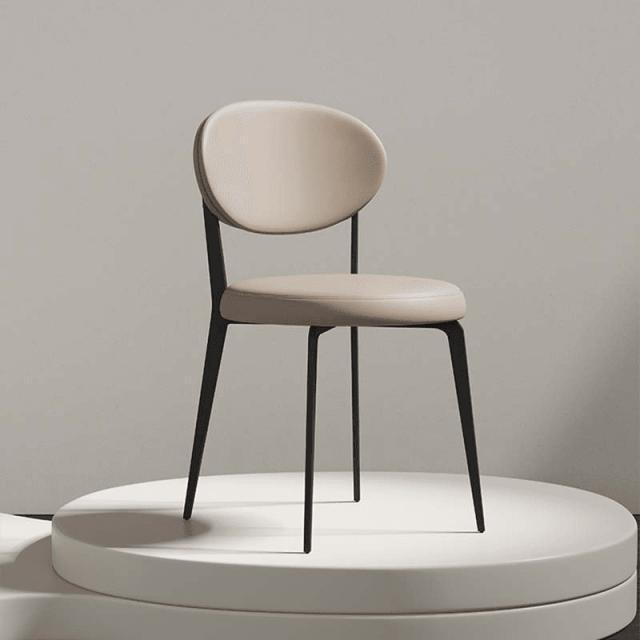chair: (178, 96, 492, 555), (187, 106, 471, 320)
